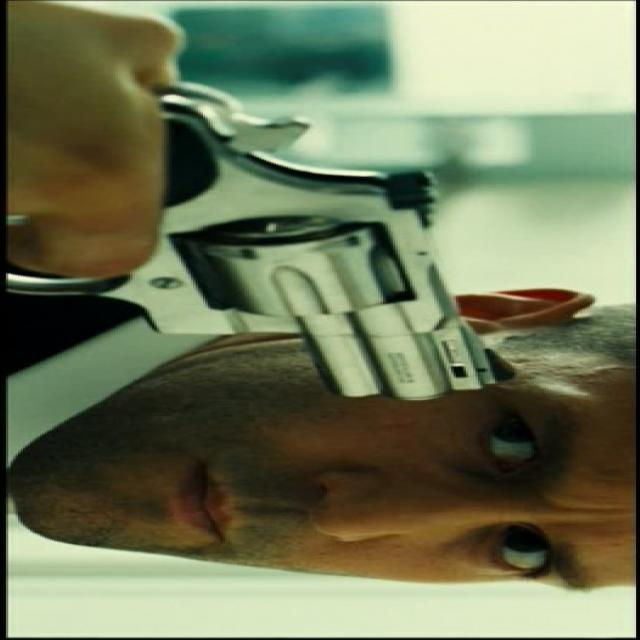weapons: (3, 87, 531, 405)
